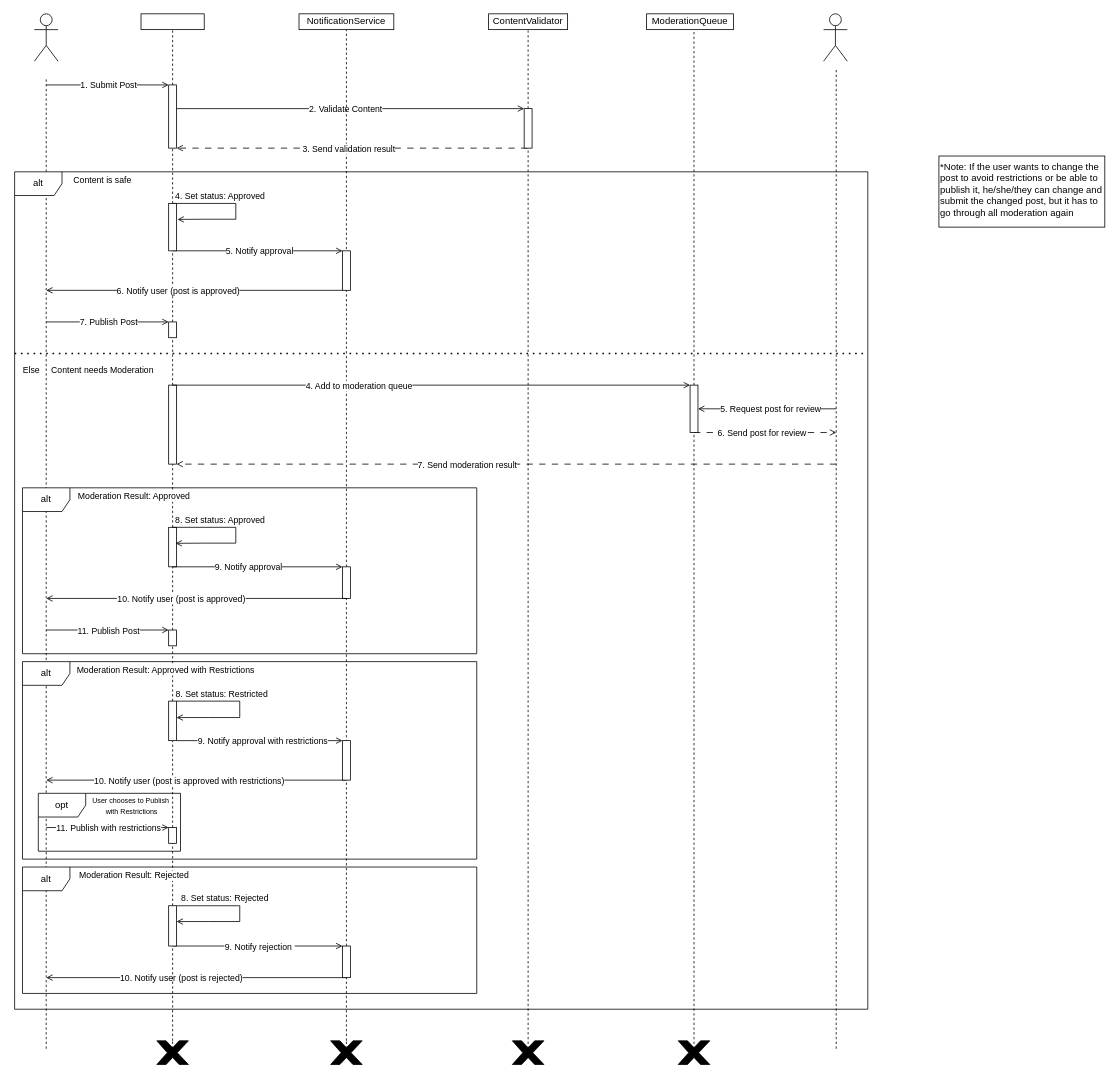
Image size: 1119x1078. Some labels were removed from this diagram. Each missing label, with the centre of its shape:
Moderator: the point at 835,37
PostService: the point at 172,21
User: the point at 46,37
